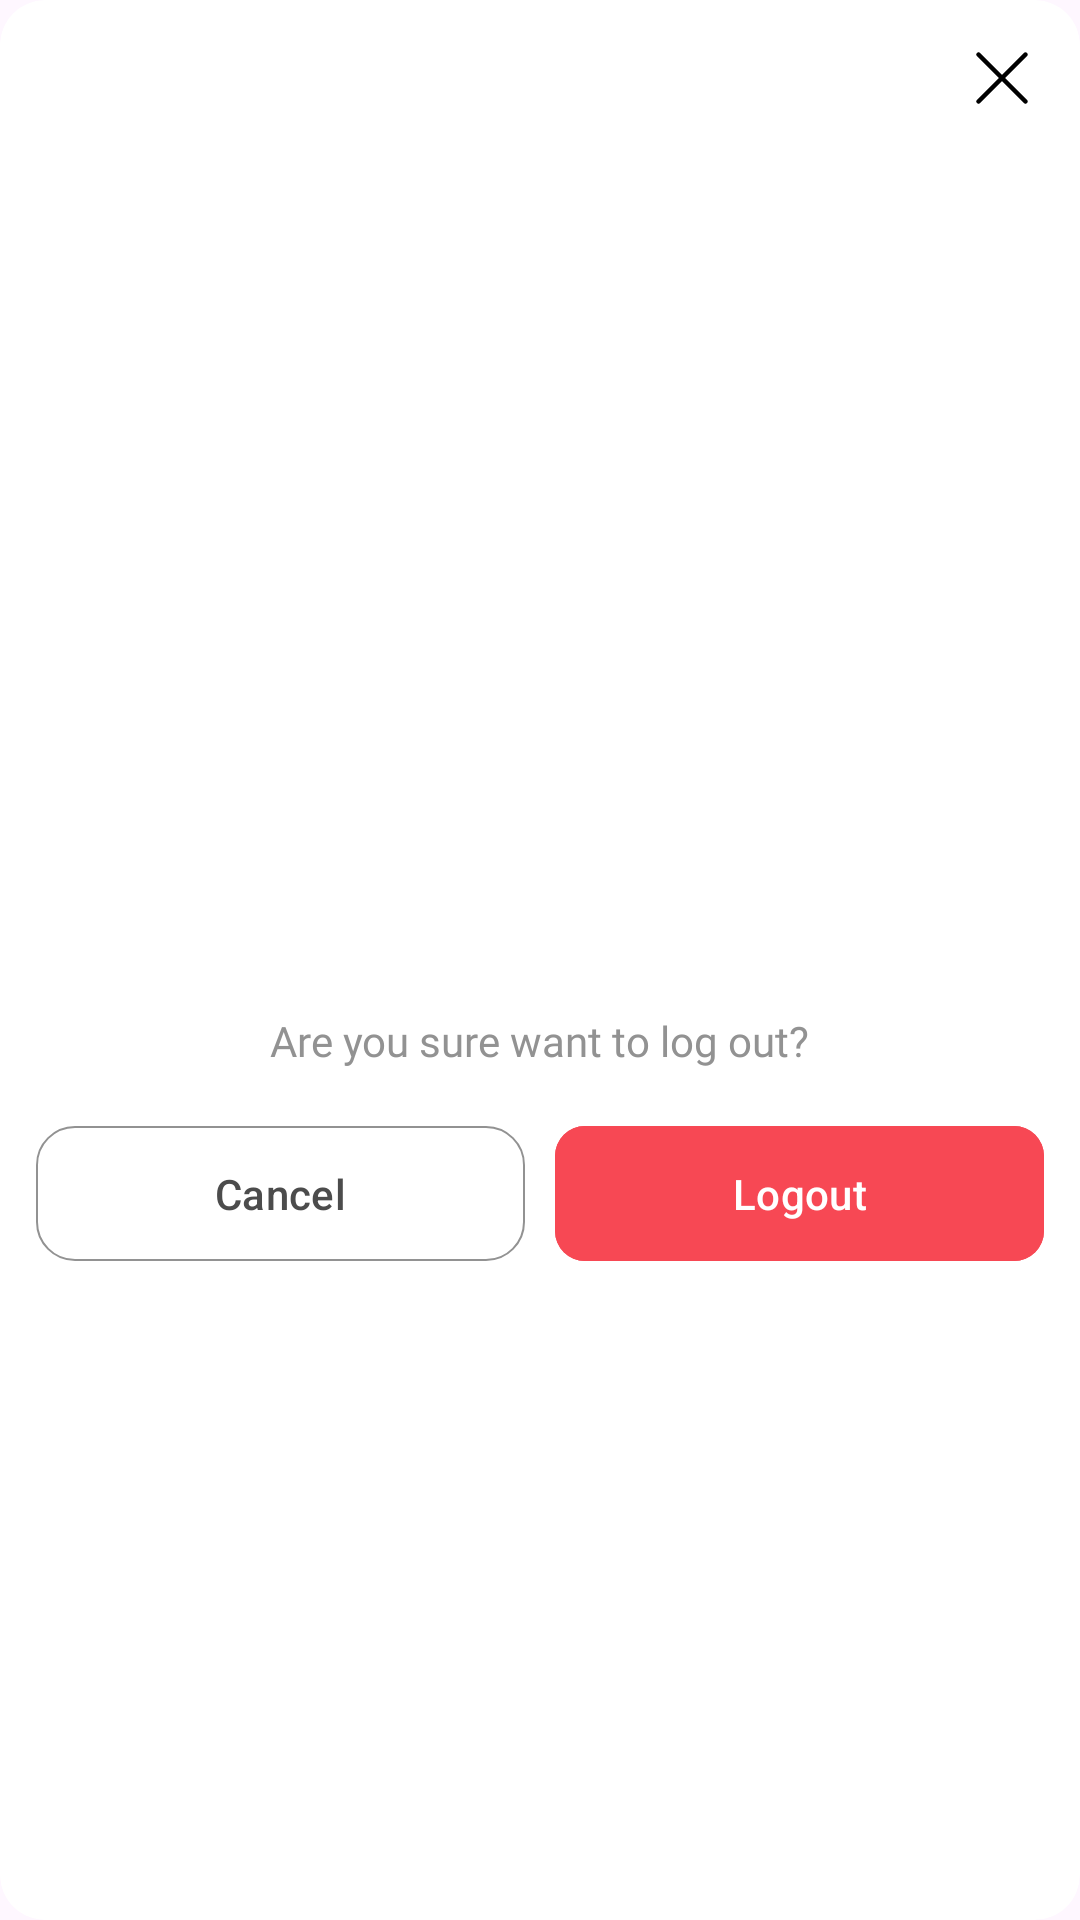

Where to tap for icons on this 1080×1920 app screen, as (x=x, y=y):
close bottomsheet: (x=1002, y=78)
